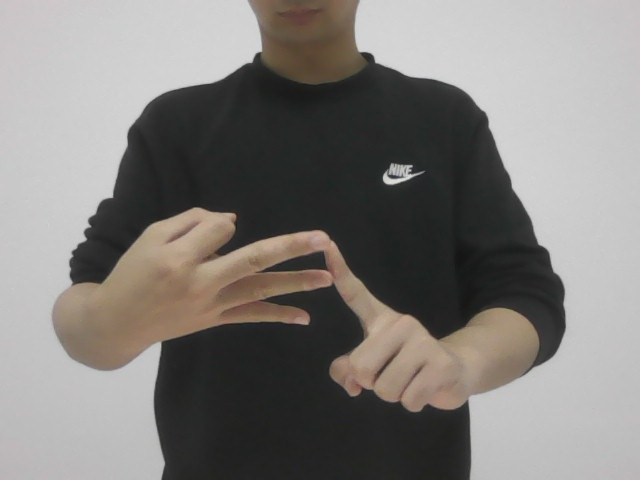name: (144, 195, 479, 434)
